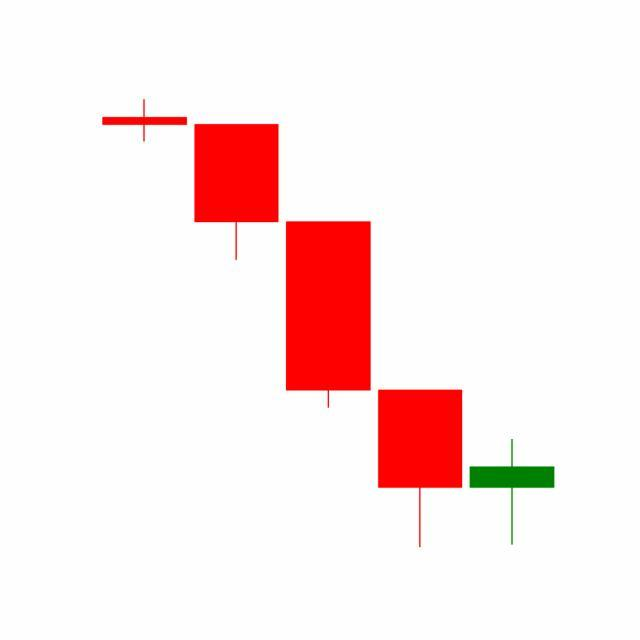Spinning Top: (466, 437, 559, 547)
